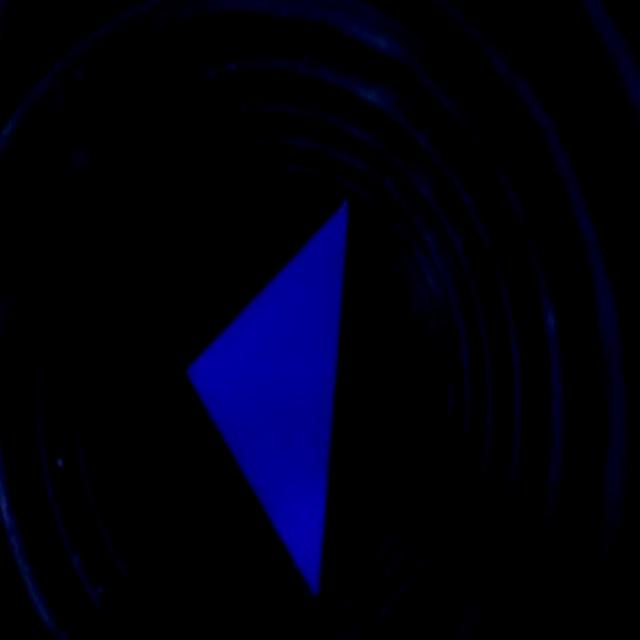obstacles: (189, 202, 351, 592)
